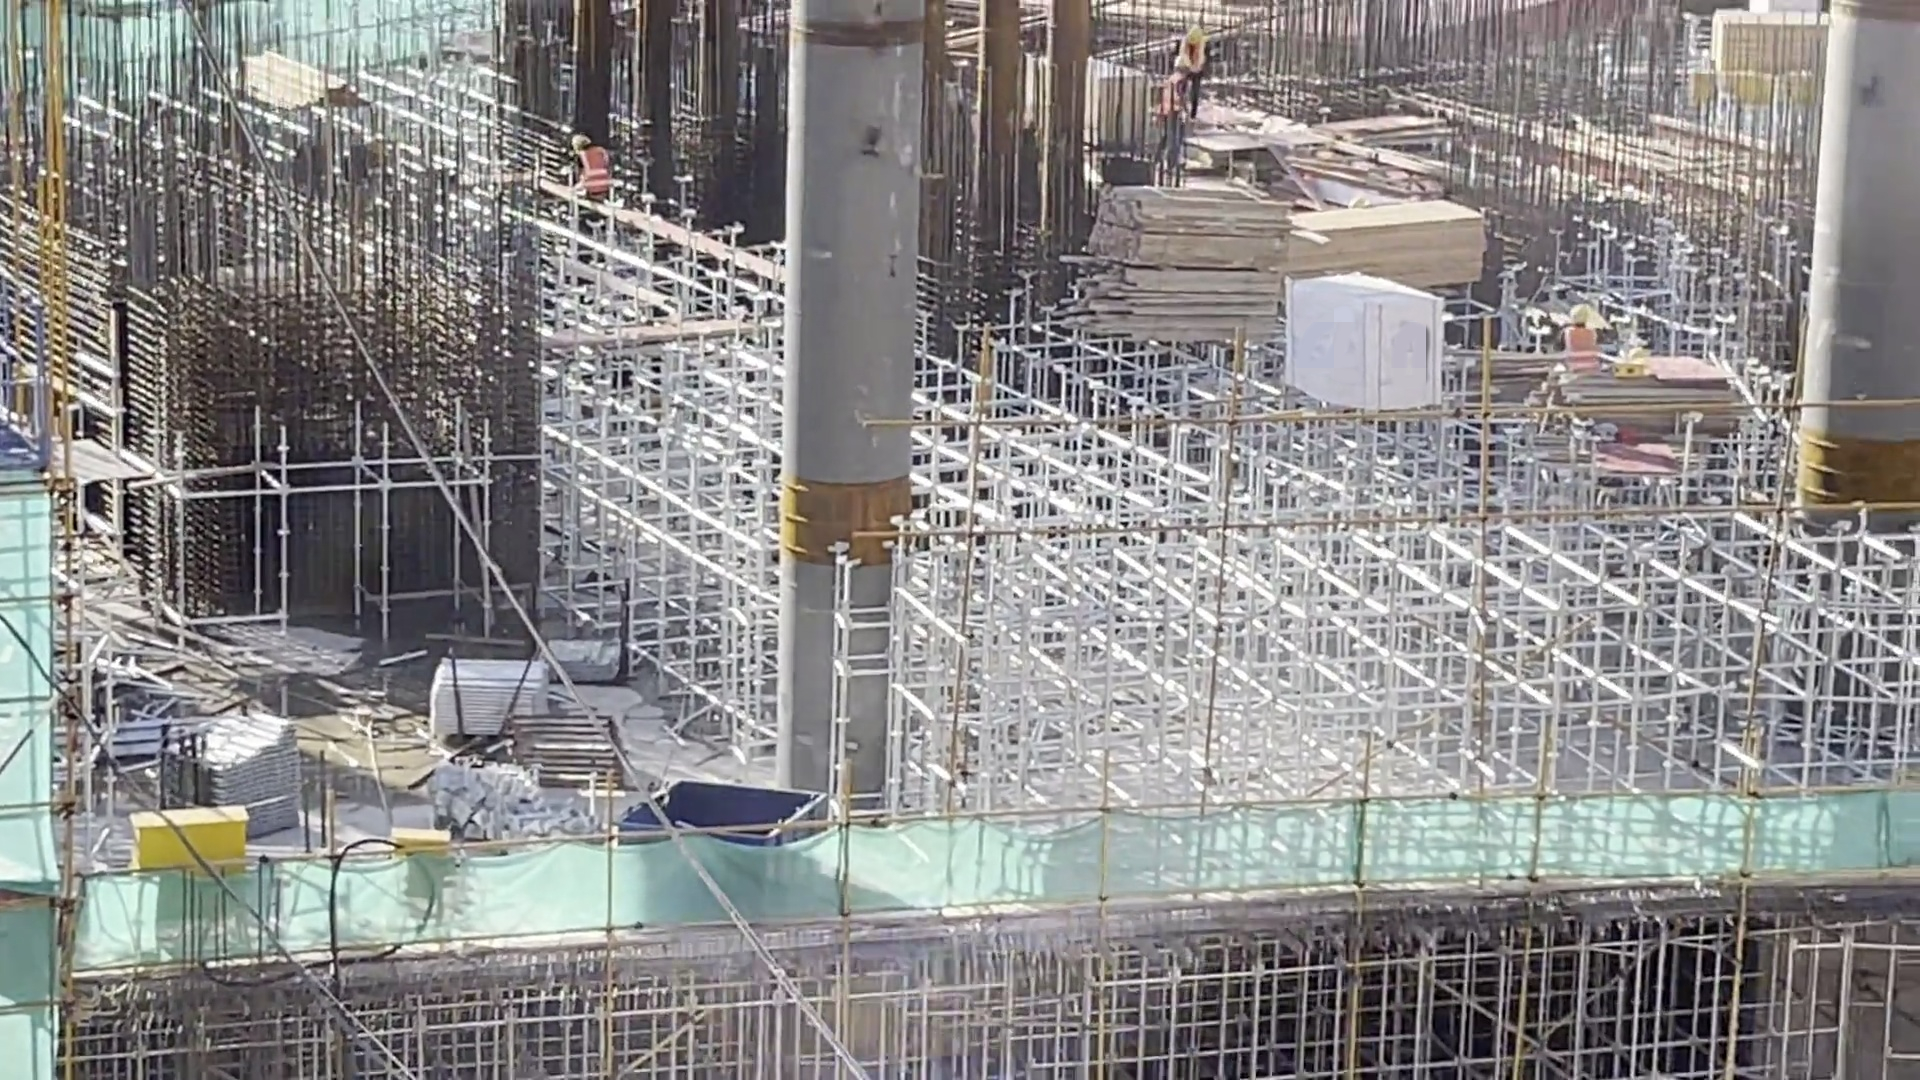board: (1569, 332, 1741, 426)
ebox: (133, 801, 273, 924), (381, 827, 449, 924)
helmet: (571, 131, 594, 156), (1568, 303, 1591, 323), (1172, 57, 1192, 74), (1349, 193, 1364, 211), (1187, 26, 1199, 48)
hopper: (636, 771, 824, 912)
person: (1174, 20, 1233, 150), (1554, 288, 1611, 391), (1161, 58, 1199, 180), (574, 121, 616, 189)
scaffold: (411, 637, 599, 732), (184, 726, 316, 826)
wood: (1089, 197, 1268, 324), (1303, 192, 1484, 294), (1718, 1, 1855, 82), (243, 39, 364, 109)
